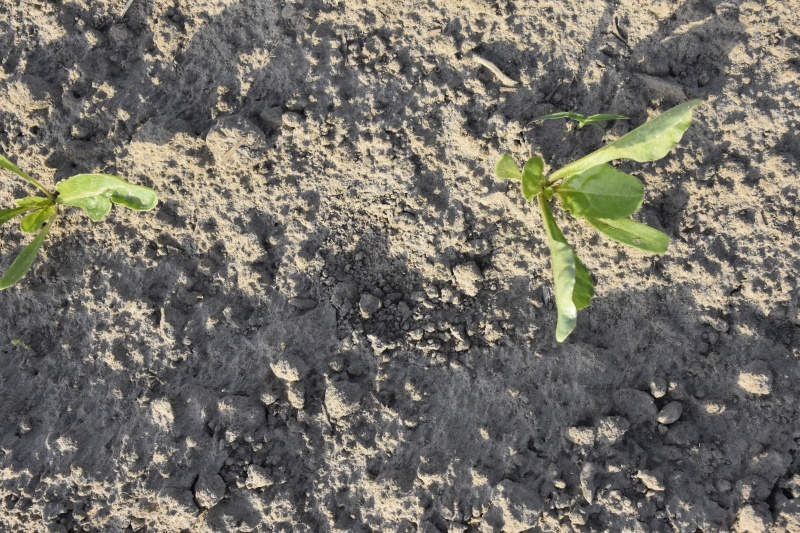sugar beet: (501, 99, 710, 339), (1, 157, 150, 286)
